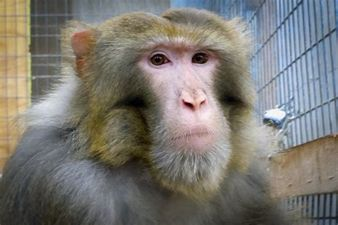monkey: (66, 11, 294, 225)
